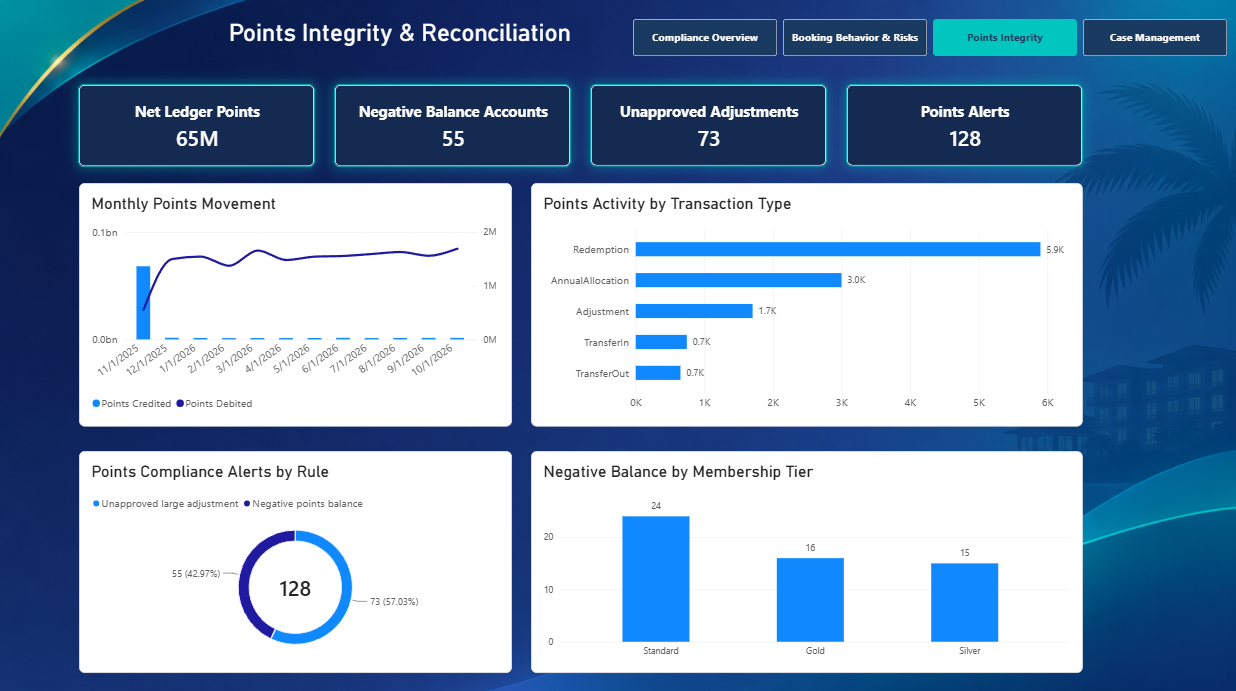

Layout of this report page (visuals, bound fields, positions):
{"tool":"powerbi","page":{"name":"Points Integrity","canvas":[1920,1080],"ordinal":2},"visuals":[{"type":"cardVisual","fields":{"Data":["_Measures.Net Ledger Points"]},"box":[230.6,181.6,319,112.2],"z":0},{"type":"cardVisual","fields":{"Data":["_Measures.Negative Balance Alerts"]},"box":[575.3,182.4,319,112.2],"z":1000},{"type":"cardVisual","fields":{"Data":["_Measures.Unapproved Adjustment Alerts"]},"box":[920.1,182.4,319,111.5],"z":2000},{"type":"cardVisual","fields":{"Data":["_Measures.Points Compliance Alerts"]},"box":[1264.8,182.4,319,111.5],"z":3000},{"type":"textbox","title":"Points Integrity & Reconciliation","box":[434,94.6,486.3,38],"z":6000},{"type":"lineClusteredColumnComboChart","title":"Monthly Points Movement","fields":{"Category":["FactPointsLedger.Points Month"],"Y":["_Measures.Points Credited"],"Y2":["_Measures.Points Debited"]},"box":[231.3,315.8,582.6,327.6],"z":7000},{"type":"clusteredColumnChart","title":"Negative Balance by Membership Tier","fields":{"Category":["DimMember.MembershipTier"],"Y":["_Measures.Negative Balance Members"]},"box":[840.9,675.5,743,298.9],"z":8000},{"type":"clusteredBarChart","title":"Points Activity by Transaction Type","fields":{"Category":["FactPointsLedger.TransactionType"],"Y":["_Measures.Total Points Transactions"]},"box":[840.9,315.8,743,327.6],"z":10000},{"type":"donutChart","title":"Points Compliance Alerts by Rule","fields":{"Category":["DimComplianceRule.RuleName"],"Y":["_Measures.Points Compliance Alerts"]},"box":[231.3,675.5,582.6,298.9],"z":10001},{"type":"pageNavigator","box":[977.7,94.6,800,50],"z":10002}]}

Visuals, with their boxes in screenshot pixels (x1, y1, x2, y2), scaled from the page's 1920x1080 canvas onto the 1236x691 screenshot:
cardVisual - _Measures.Net Ledger Points: <bbox>148, 116, 354, 188</bbox>
cardVisual - _Measures.Negative Balance Alerts: <bbox>370, 117, 576, 188</bbox>
cardVisual - _Measures.Unapproved Adjustment Alerts: <bbox>592, 117, 798, 188</bbox>
cardVisual - _Measures.Points Compliance Alerts: <bbox>814, 117, 1020, 188</bbox>
"Points Integrity & Reconciliation" textbox: <bbox>279, 61, 592, 85</bbox>
"Monthly Points Movement" lineClusteredColumnComboChart: <bbox>149, 202, 524, 412</bbox>
"Negative Balance by Membership Tier" clusteredColumnChart: <bbox>541, 432, 1020, 623</bbox>
"Points Activity by Transaction Type" clusteredBarChart: <bbox>541, 202, 1020, 412</bbox>
"Points Compliance Alerts by Rule" donutChart: <bbox>149, 432, 524, 623</bbox>
pageNavigator: <bbox>629, 61, 1144, 93</bbox>
